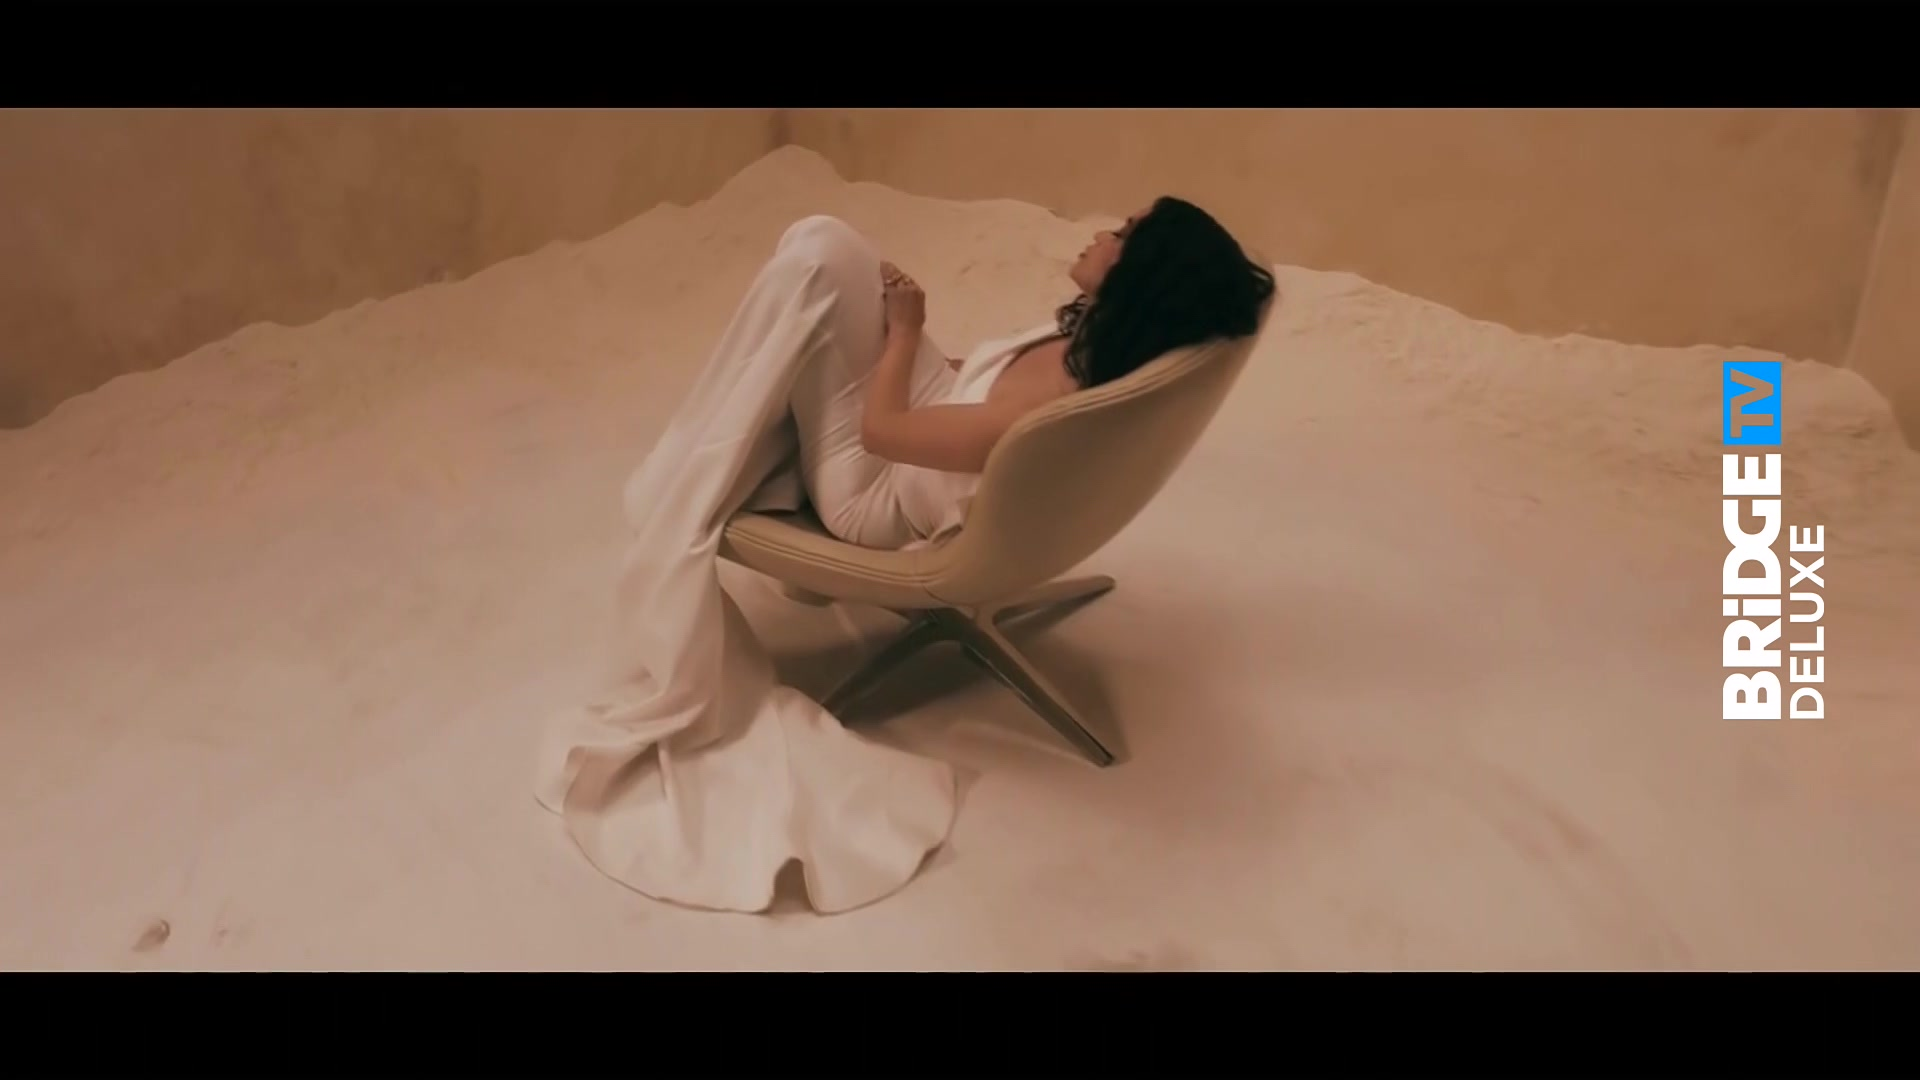Bridge_TV_Deluxe: (1716, 355, 1832, 727)
